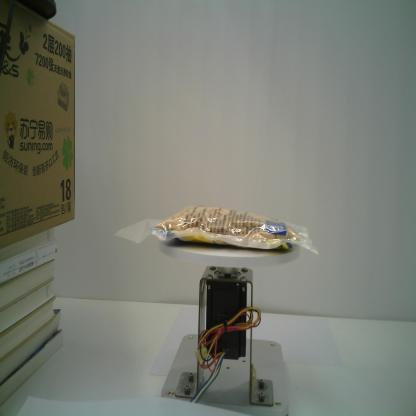Dried Fruit: (113, 204, 319, 256)
